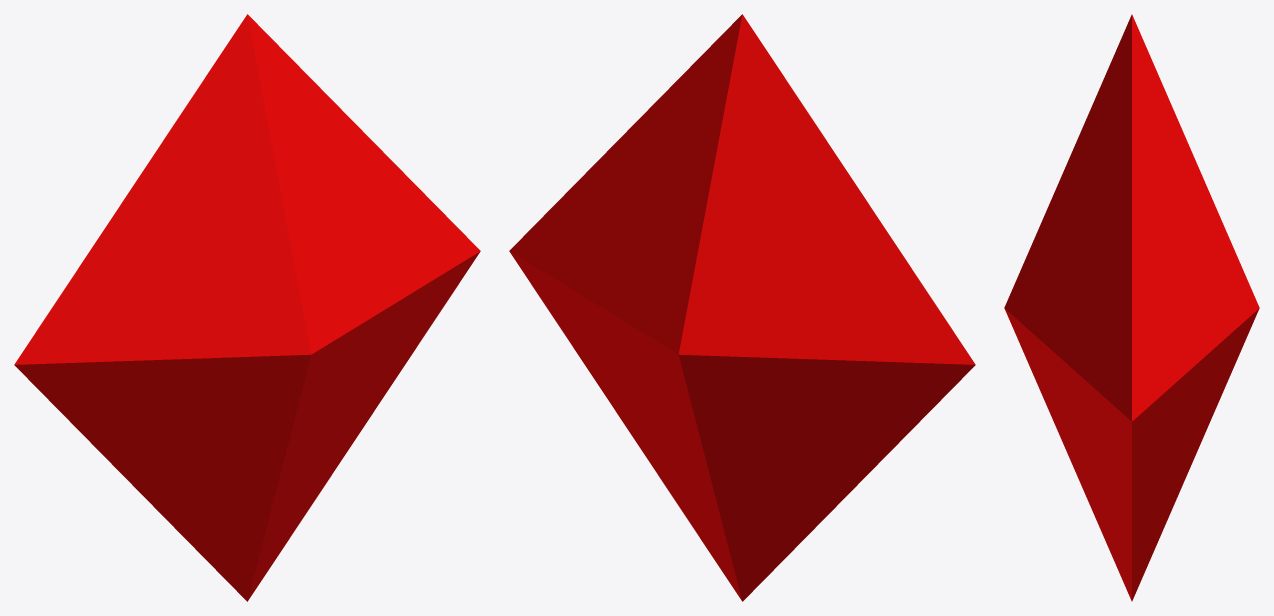
File: Gem.fbx
3 views of the same model, side by side, from view 1: azimuth 30°, elevation 25°; view 2: azimuth 150°, elevation 25°; view 3: azimuth 270°, elevation 25° (orthographic).
Visible parts, largest first — view 1: Gem; view 2: Gem; view 3: Gem.
Part boxes in pixels (<box>): Gem: <box>14,14,480,601</box>; Gem: <box>509,14,975,601</box>; Gem: <box>1004,14,1259,601</box>.
Bounding box in the file's own units: 0.989 × 1.19 × 0.4688.
